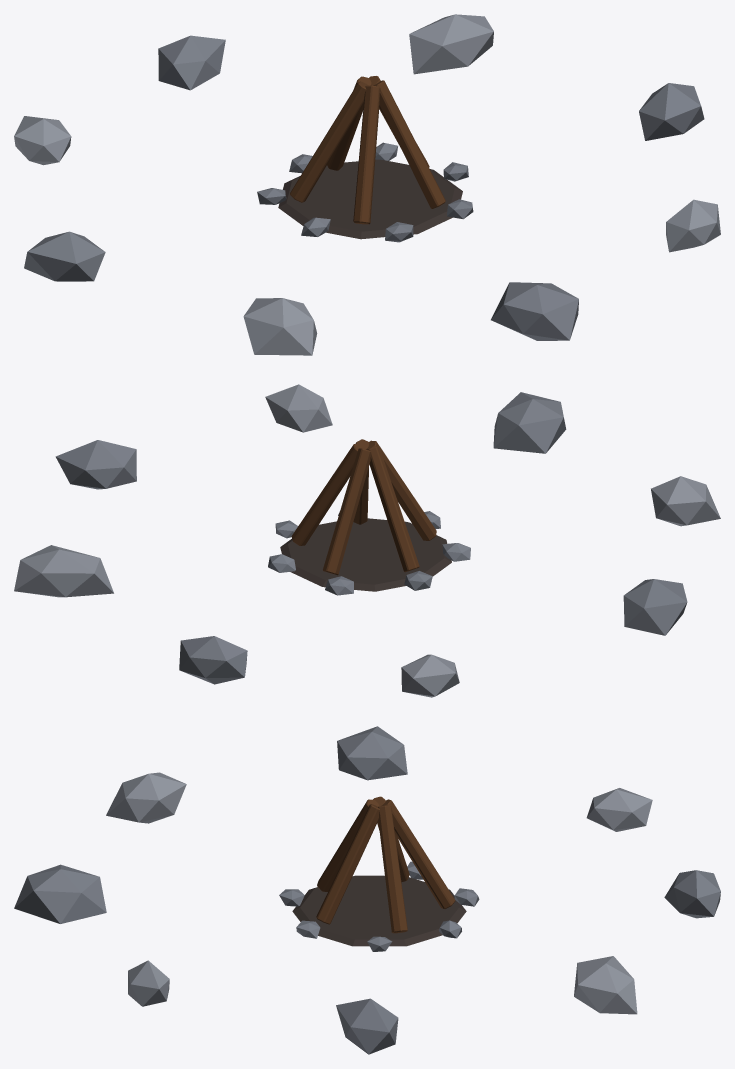
File: campfire.glb
3 views of the same model, one above another, from view 1: azimuth 30°, elevation 25°; view 2: azimuth 150°, elevation 25°; view 3: azimuth 270°, elevation 25° (orthographic). The views are drawn at different scales.
Visible parts, largest first — view 1: campfire; view 2: campfire; view 3: campfire.
Boxes of the visible parts, bbox=[...] form: campfire: bbox=[14, 14, 720, 355]; campfire: bbox=[14, 384, 720, 697]; campfire: bbox=[14, 726, 720, 1054].
Size of the model in its own units: 13.99 by 2.63 by 13.79.
